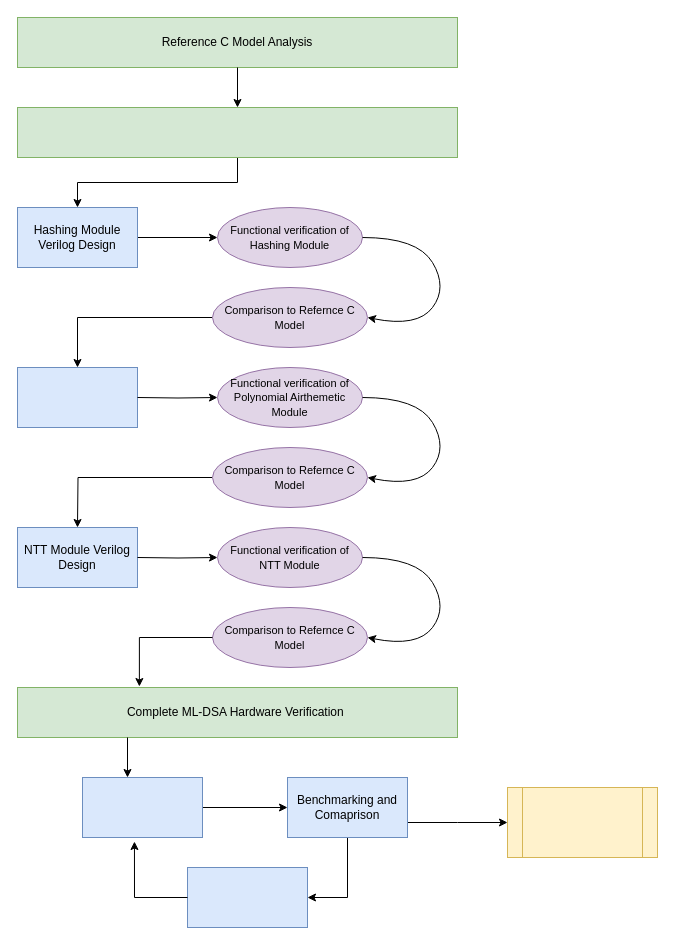
Some shapes in this 675 by 945 pixel diagram are drawn without their labels. Each missing label, with the centre of its shape:
Algorithm Analysis: the point at 237,132
Final Design wirh Performance Metrics: the point at 582,822
Optimizations and Error reductions: the point at 247,897
Polynomial Arithemetic Module Verilog Design: the point at 77,397
Power , Performance , Area Evaluation: the point at 142,807
